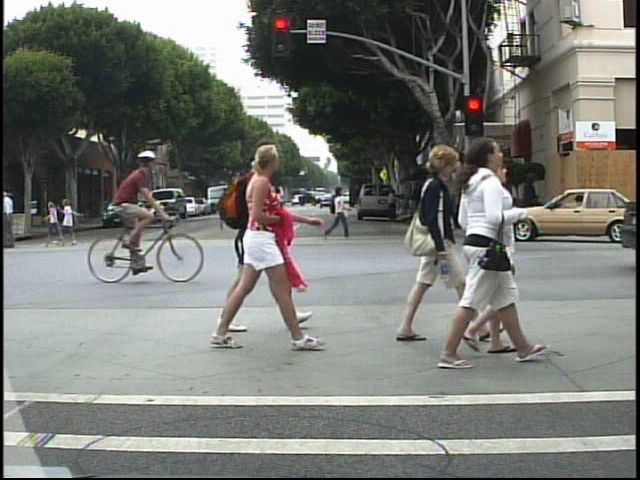person: (441, 136, 539, 375), (208, 143, 321, 350), (385, 142, 468, 353), (441, 158, 520, 361), (232, 147, 286, 343), (99, 146, 162, 276), (319, 183, 353, 245), (425, 177, 454, 239), (4, 187, 23, 251), (385, 187, 401, 223)
